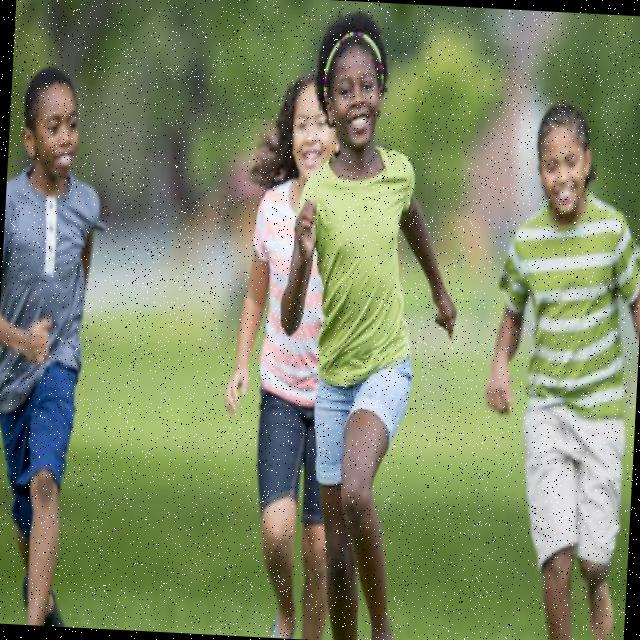Person: (264, 5, 472, 640), (473, 96, 640, 640), (211, 71, 355, 640), (0, 62, 116, 628)
